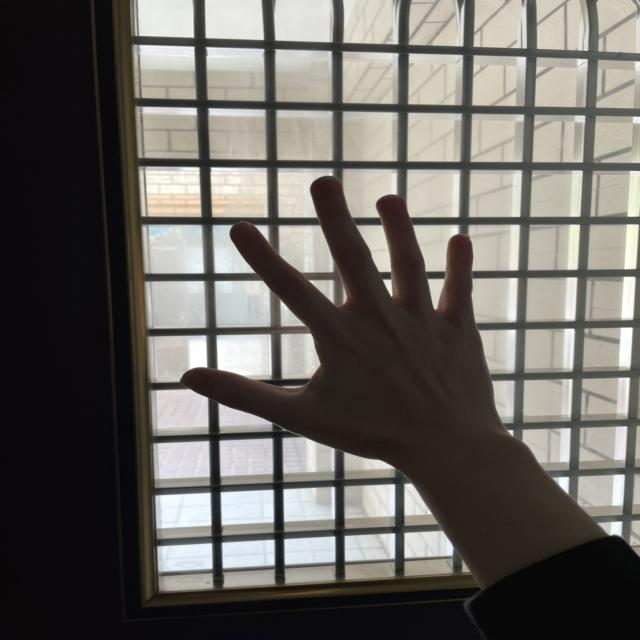no_glove: (170, 164, 498, 486)
